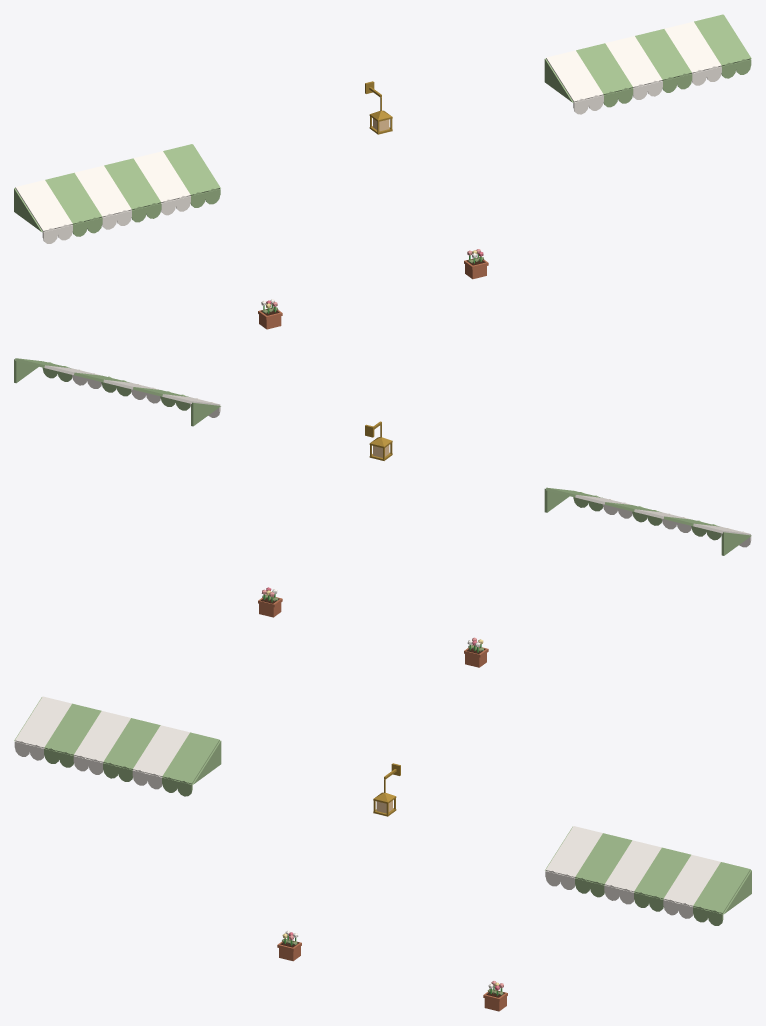
File: CatCafe_Plot_ThemeGarden_48x37.glb
3 renders of one model, top to bottom at view 1: azimuth 30°, elevation 25°; view 2: azimuth 150°, elevation 25°; view 3: azimuth 330°, elevation 25°, orthographic.
Visible parts, largest first — view 1: CatCafe_Plot_ThemeGarden_48x37_Awning, CatCafe_Plot_ThemeGarden_48x37; view 2: CatCafe_Plot_ThemeGarden_48x37_Awning, CatCafe_Plot_ThemeGarden_48x37; view 3: CatCafe_Plot_ThemeGarden_48x37_Awning, CatCafe_Plot_ThemeGarden_48x37.
Part boxes in pixels (left/top/right/bottom): CatCafe_Plot_ThemeGarden_48x37_Awning: left=14, top=14, right=751, bottom=243; CatCafe_Plot_ThemeGarden_48x37: left=258, top=81, right=488, bottom=329; CatCafe_Plot_ThemeGarden_48x37_Awning: left=14, top=358, right=751, bottom=555; CatCafe_Plot_ThemeGarden_48x37: left=258, top=421, right=488, bottom=667; CatCafe_Plot_ThemeGarden_48x37_Awning: left=14, top=696, right=751, bottom=925; CatCafe_Plot_ThemeGarden_48x37: left=277, top=763, right=507, bottom=1011.
Size of the model in its own units: 44.15 by 12.75 by 3.09.
1 material, 1 textured.
